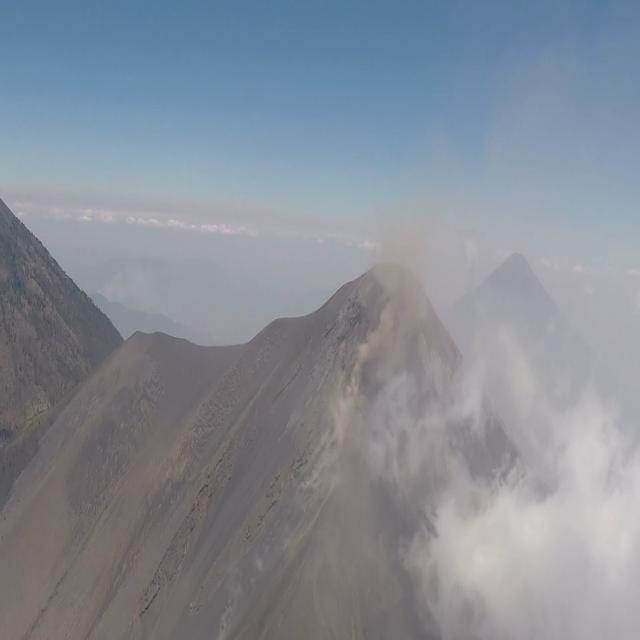Summit: (245, 235, 476, 376)
